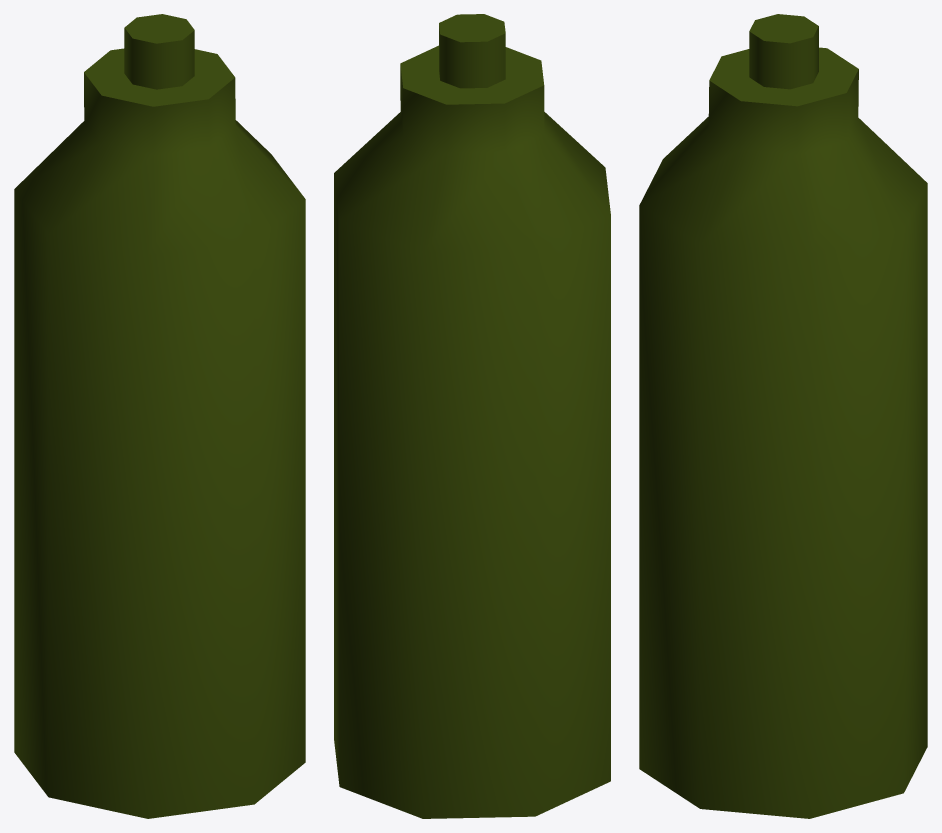
The model's file is Can4_M.fbx.
3 renders of one model, left to right at view 1: azimuth 30°, elevation 25°; view 2: azimuth 150°, elevation 25°; view 3: azimuth 270°, elevation 25°, orthographic.
Visible parts, largest first — view 1: Can4; view 2: Can4; view 3: Can4.
Part boxes in pixels (x1,y1,x2,y2): Can4: [14, 14, 305, 818]; Can4: [334, 14, 610, 818]; Can4: [639, 14, 927, 818].
Bounding box in the file's own units: 0.0329 × 0.0919 × 0.0329.
